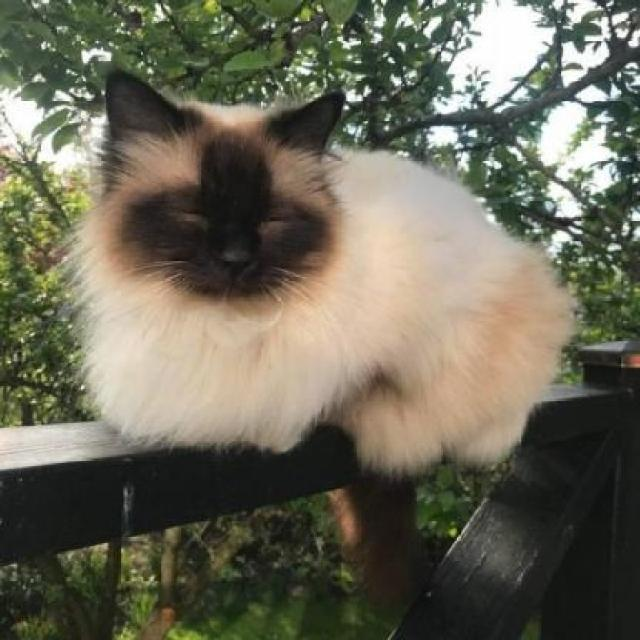cat: (63, 56, 582, 487)
